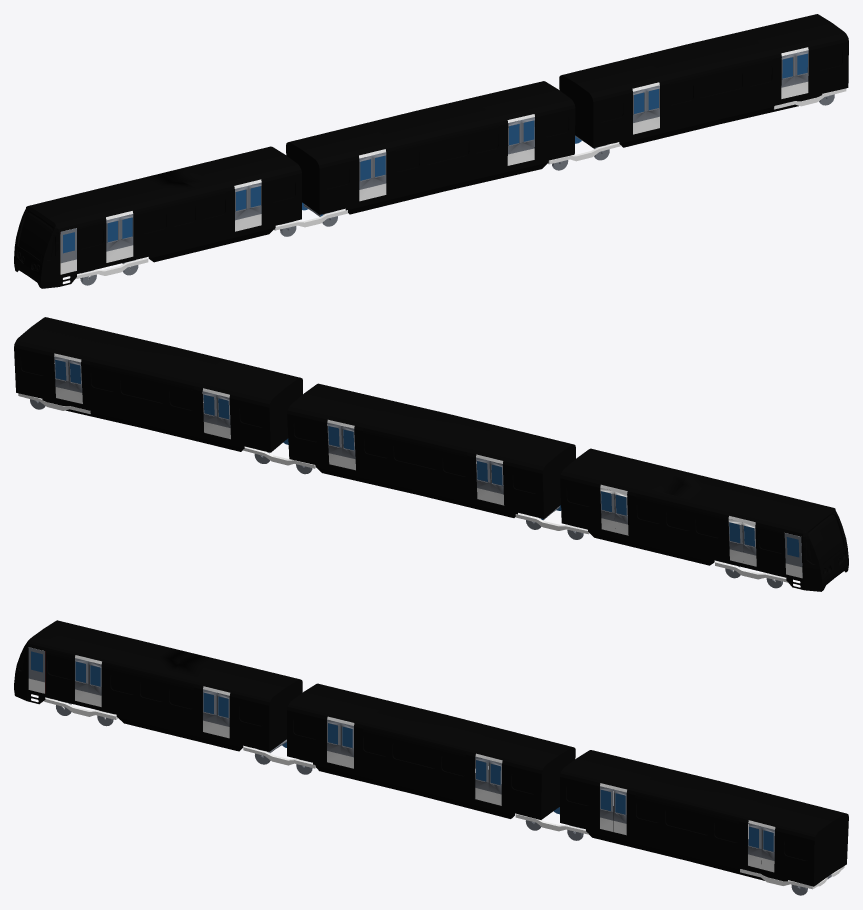
File: train.FBX
3 views of the same model, one above another, from view 1: azimuth 30°, elevation 25°; view 2: azimuth 150°, elevation 25°; view 3: azimuth 330°, elevation 25° (orthographic).
Visible parts, largest first — view 1: wagon1, wagon2, wagon3; view 2: wagon1, wagon3, wagon2; view 3: wagon3, wagon2, wagon1.
Part boxes in pixels (x1=…): wagon1: x1=14, y1=146, x2=321, y2=288; wagon2: x1=286, y1=81, x2=592, y2=226; wagon3: x1=559, y1=14, x2=848, y2=160; wagon1: x1=542, y1=448, x2=848, y2=591; wagon3: x1=14, y1=317, x2=302, y2=463; wagon2: x1=271, y1=383, x2=575, y2=529; wagon3: x1=558, y1=750, x2=848, y2=895; wagon2: x1=287, y1=683, x2=575, y2=831; wagon1: x1=14, y1=620, x2=302, y2=765.
Size of the model in its own units: 105 by 8.86 by 7.84.
